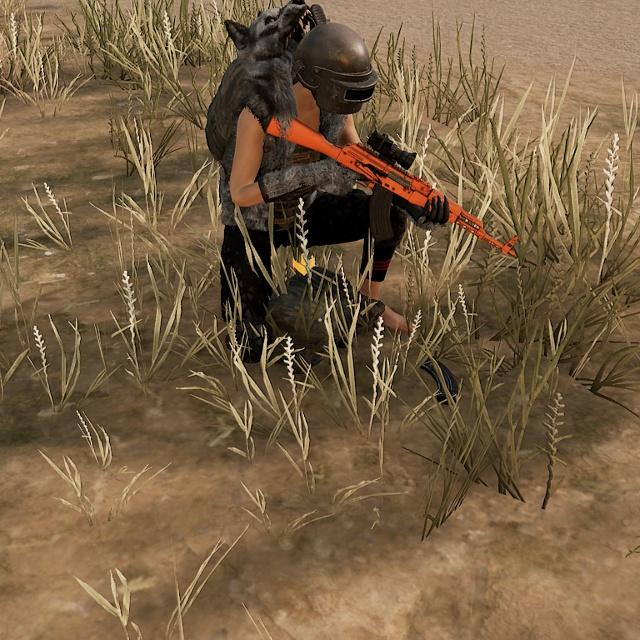head: (299, 17, 381, 120)
people: (194, 1, 428, 376)
